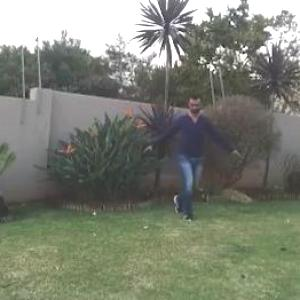land: (130, 83, 240, 222)
